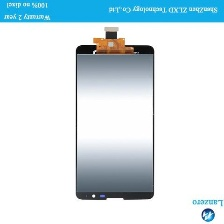phone: (73, 43, 158, 203)
